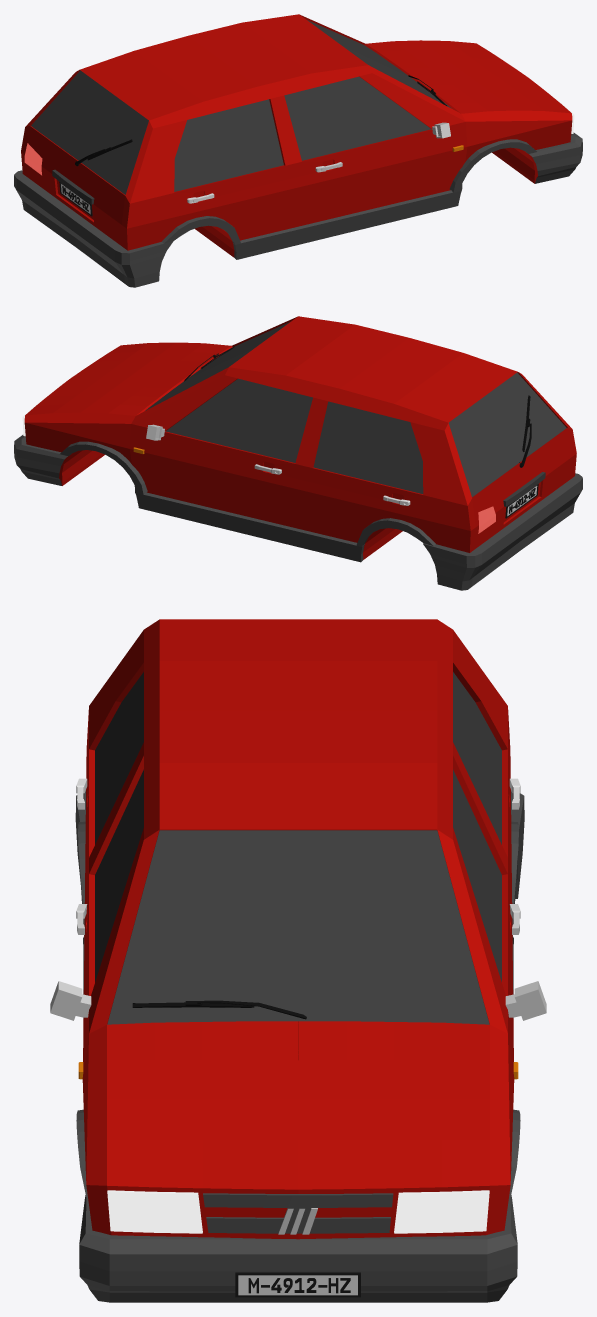
The model's file is fiat.glb.
The picture shows the model from 3 angles, top to bottom: view 1: azimuth 30°, elevation 25°; view 2: azimuth 150°, elevation 25°; view 3: azimuth 270°, elevation 25°; orthographic projection. The views are drawn at different scales.
Visible parts, largest first — view 1: fiat; view 2: fiat; view 3: fiat.
Boxes of the visible parts, x1,y1,x2,y2 form: fiat: (14, 14, 582, 287); fiat: (14, 316, 582, 590); fiat: (50, 619, 546, 1302).
Size of the model in its own units: 9.38 by 2.89 by 4.28.
